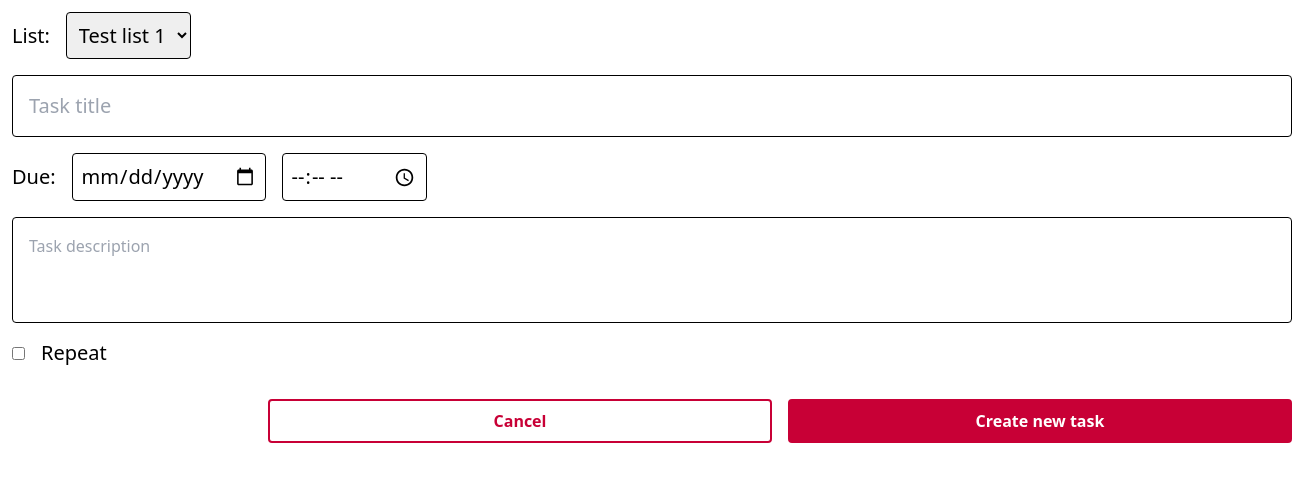
Test case: New task modal form component › displays an error when no title is specified
Step 1. Click the button "Create new task" → (1040, 421), box [788,399,1292,443]
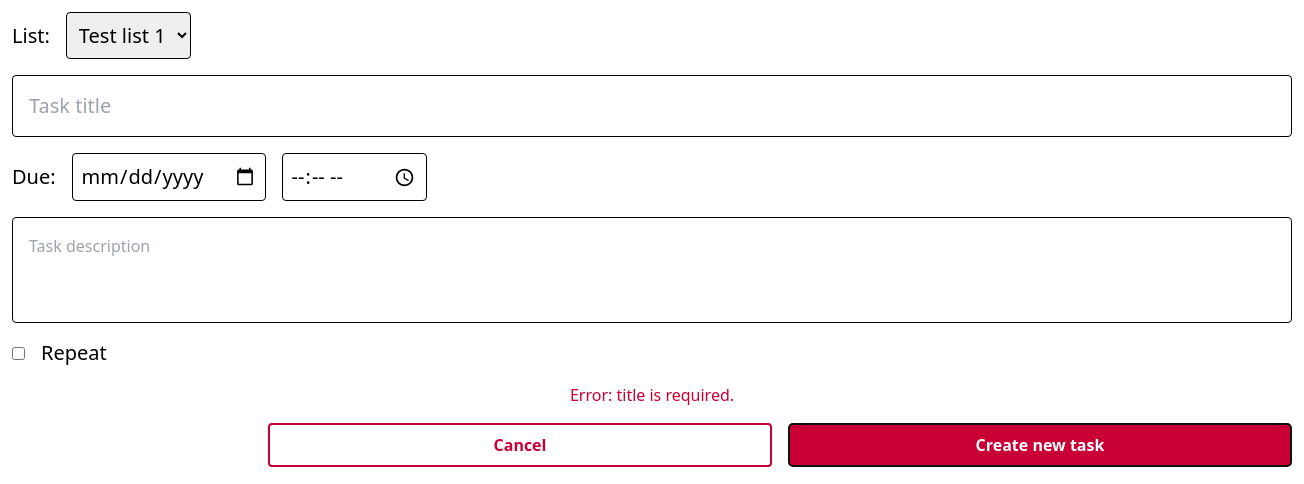
Now the text "Error: title is required." is shown, box [570,384,734,406]
